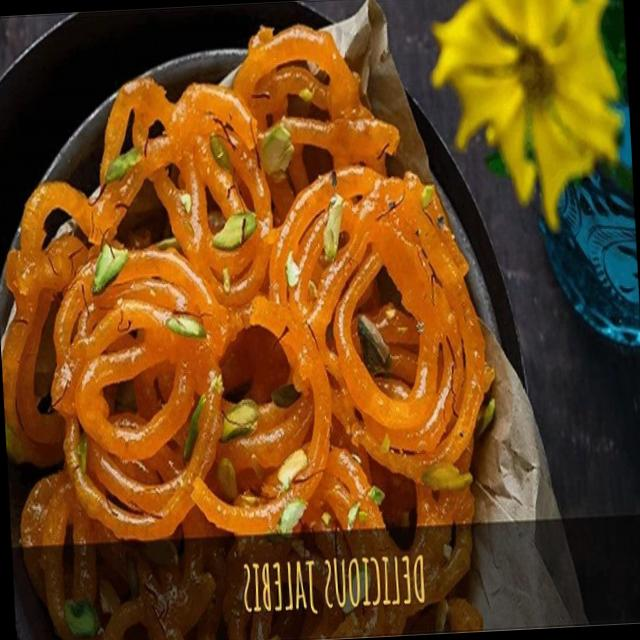jalebi: (0, 0, 505, 637)
